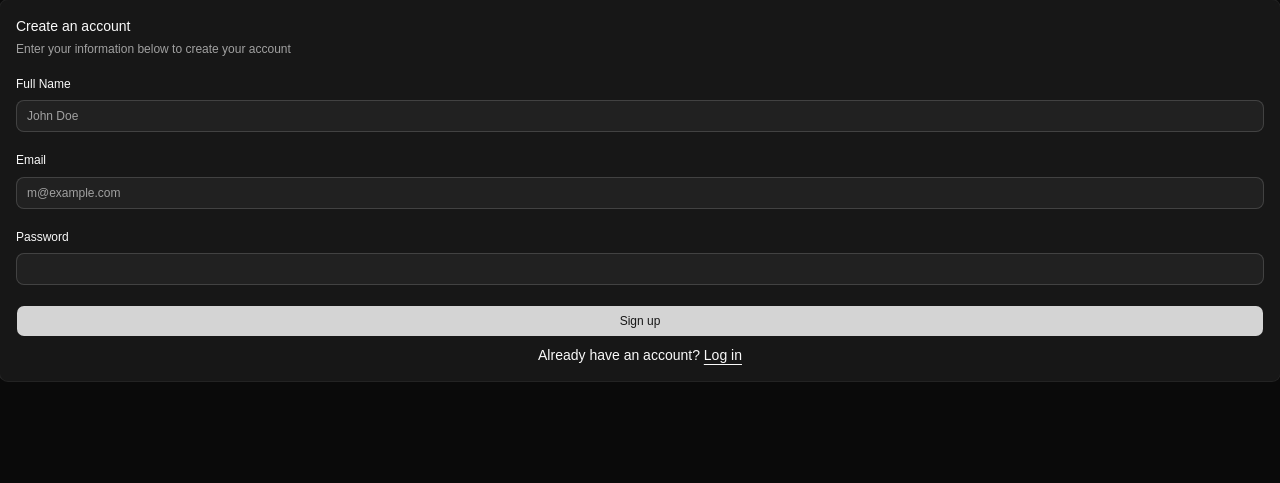
SignupForm › validates values before submitting
Step 1. Type "J" into the field labelled "Full Name" → (640, 116), box x1=16 y1=100 x2=1264 y2=132
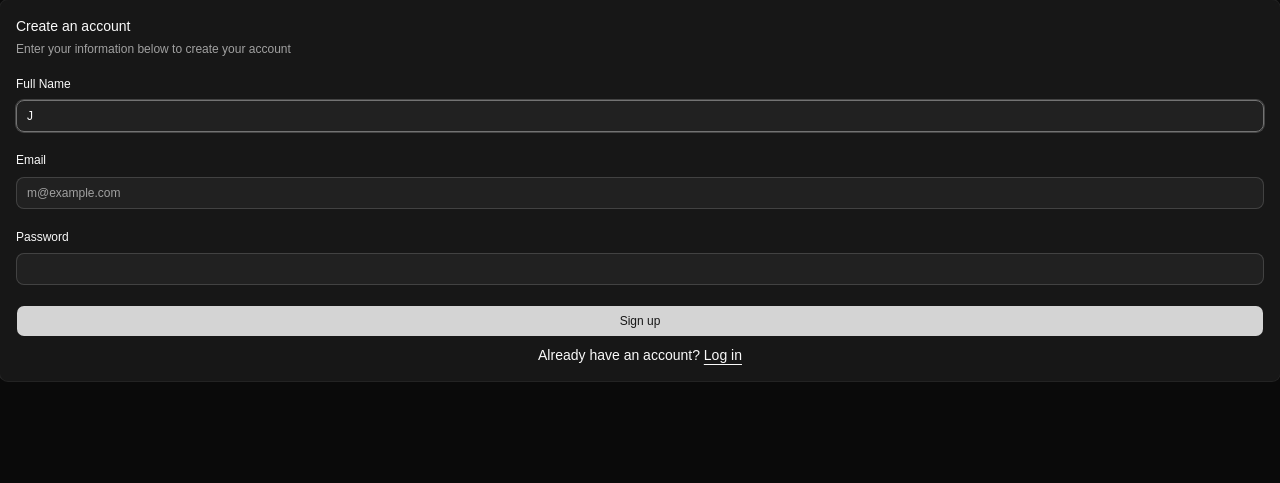
Step 2. Type "not-an-email" into the field labelled "Email" → (640, 192), box x1=16 y1=176 x2=1264 y2=208
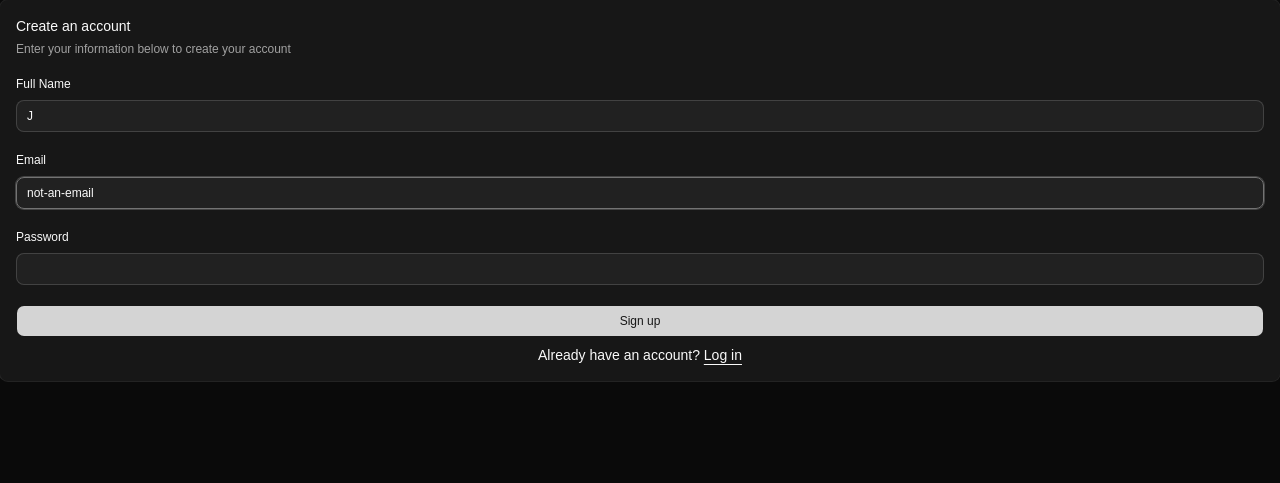
Step 3. Type "short" into the password field labelled "Password" → (640, 269), box x1=16 y1=253 x2=1264 y2=285
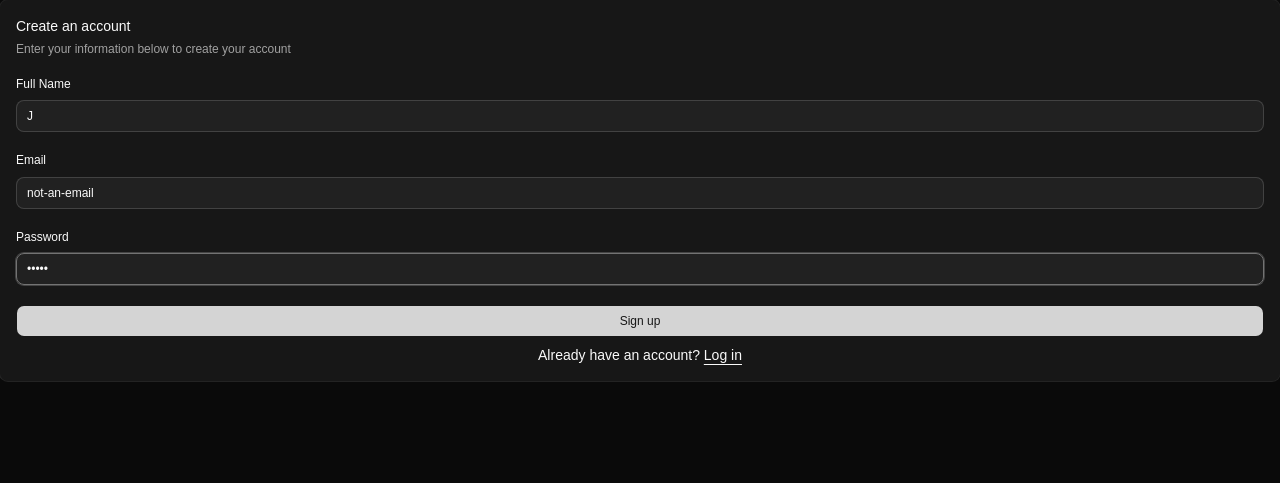
Step 4. Click the button "Sign up" → (640, 321), box x1=16 y1=305 x2=1264 y2=337
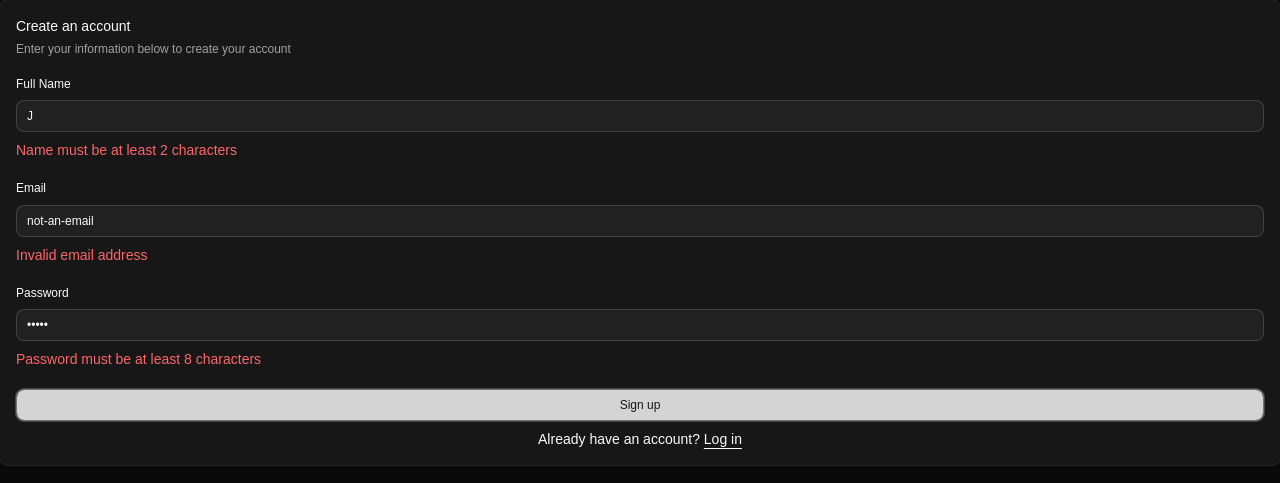
Check: the text "Name must be at least 2 characters" is shown, box x1=16 y1=142 x2=237 y2=158
Check: the text "Invalid email address" is shown, box x1=16 y1=246 x2=148 y2=262
Check: the text "Password must be at least 8 characters" is shown, box x1=16 y1=351 x2=261 y2=367
